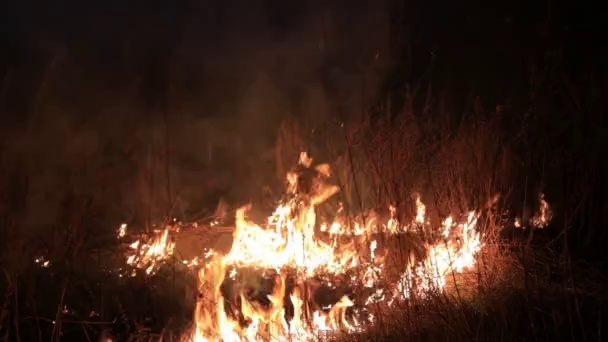fire: (232, 160, 382, 281), (195, 284, 353, 342), (398, 213, 485, 294), (126, 226, 175, 272)
